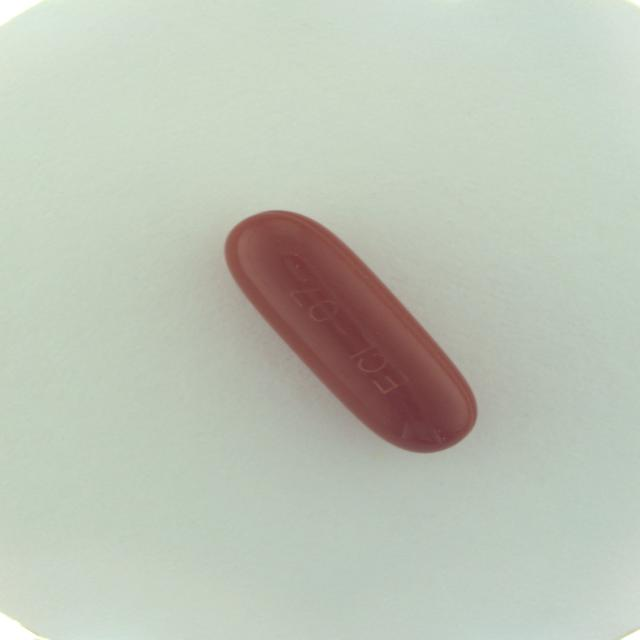Oval: (218, 205, 482, 458)
